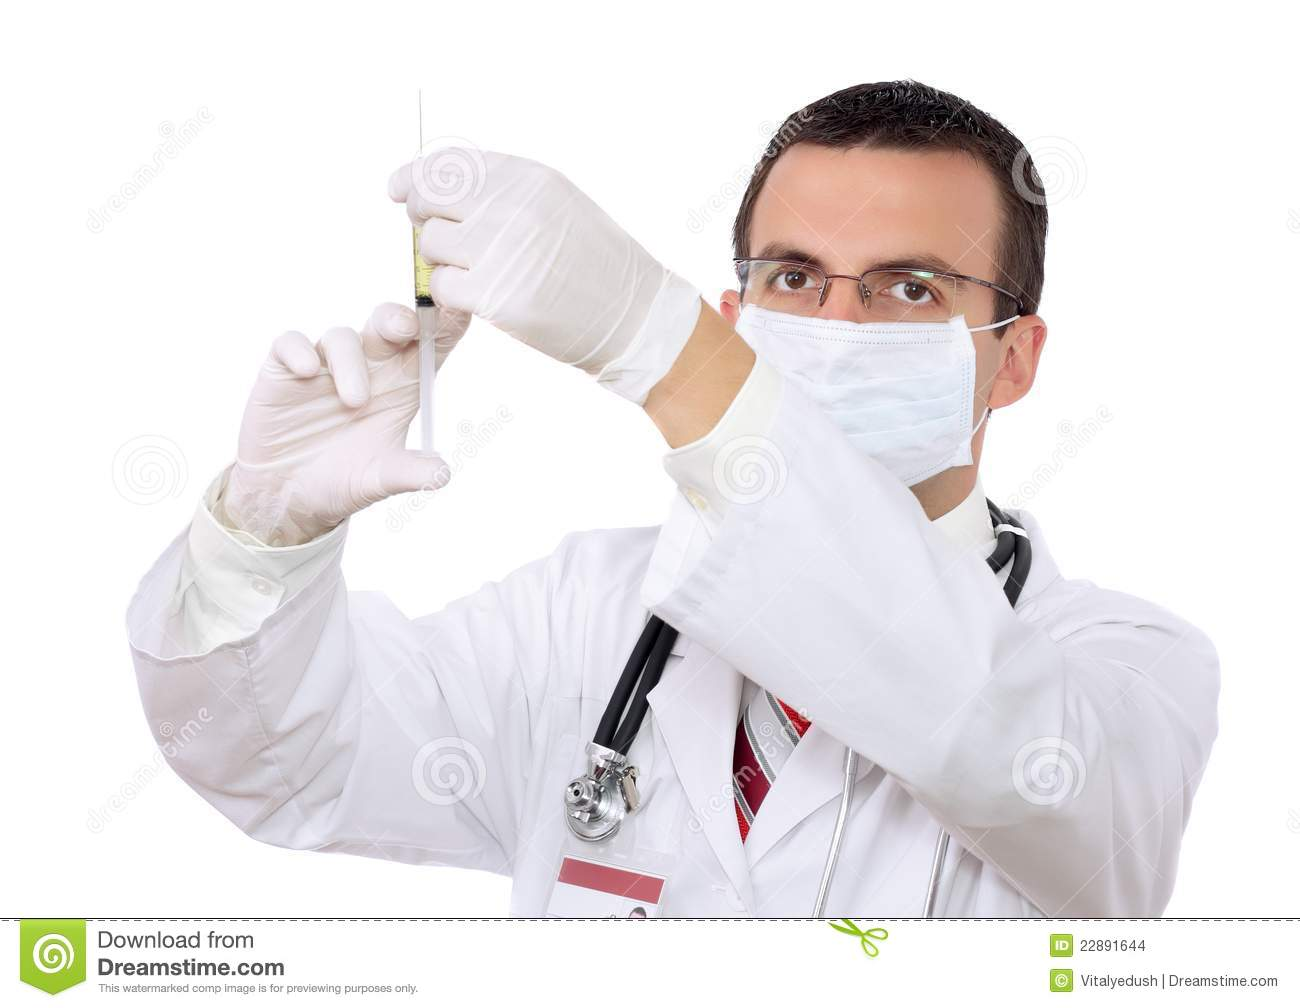mask: (730, 307, 1001, 487)
